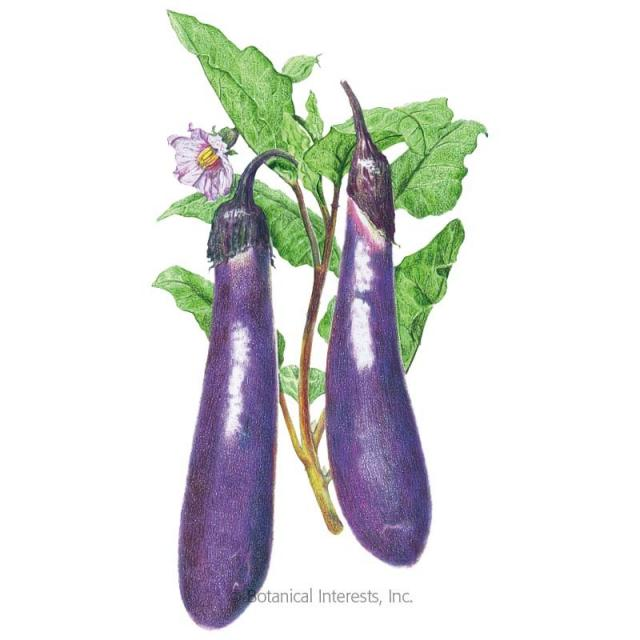Eggplant: (325, 147, 435, 568), (176, 200, 277, 630)
